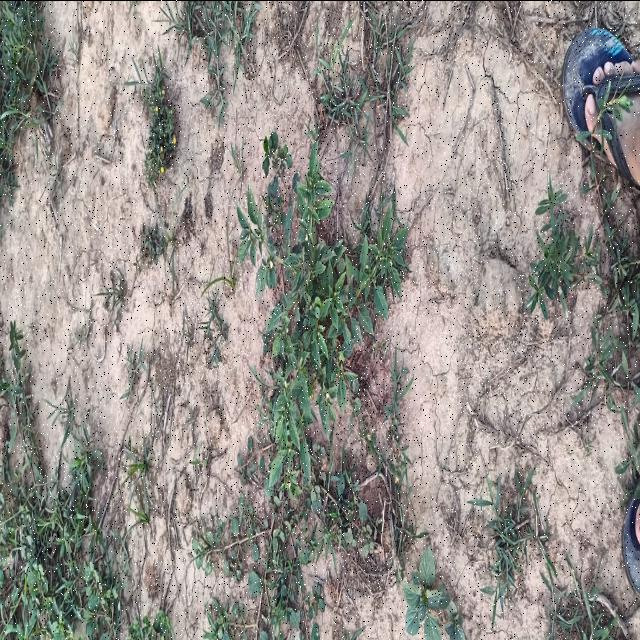plant: (238, 131, 407, 496)
